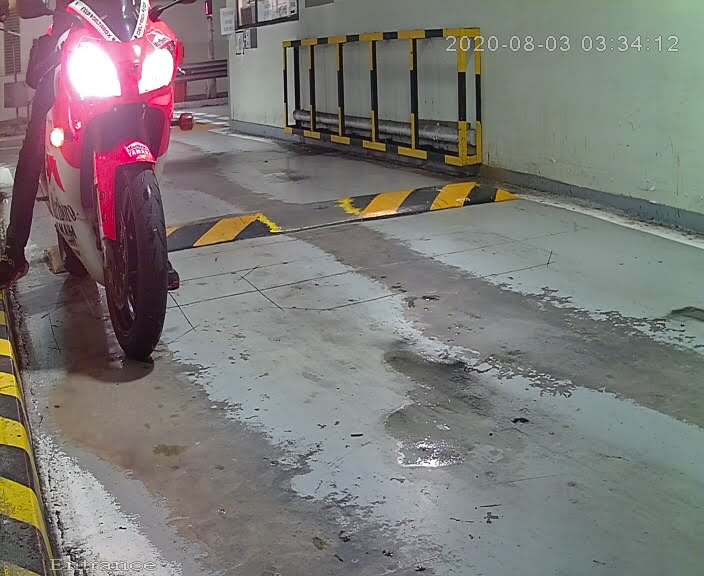motorcycle: (4, 1, 215, 349)
